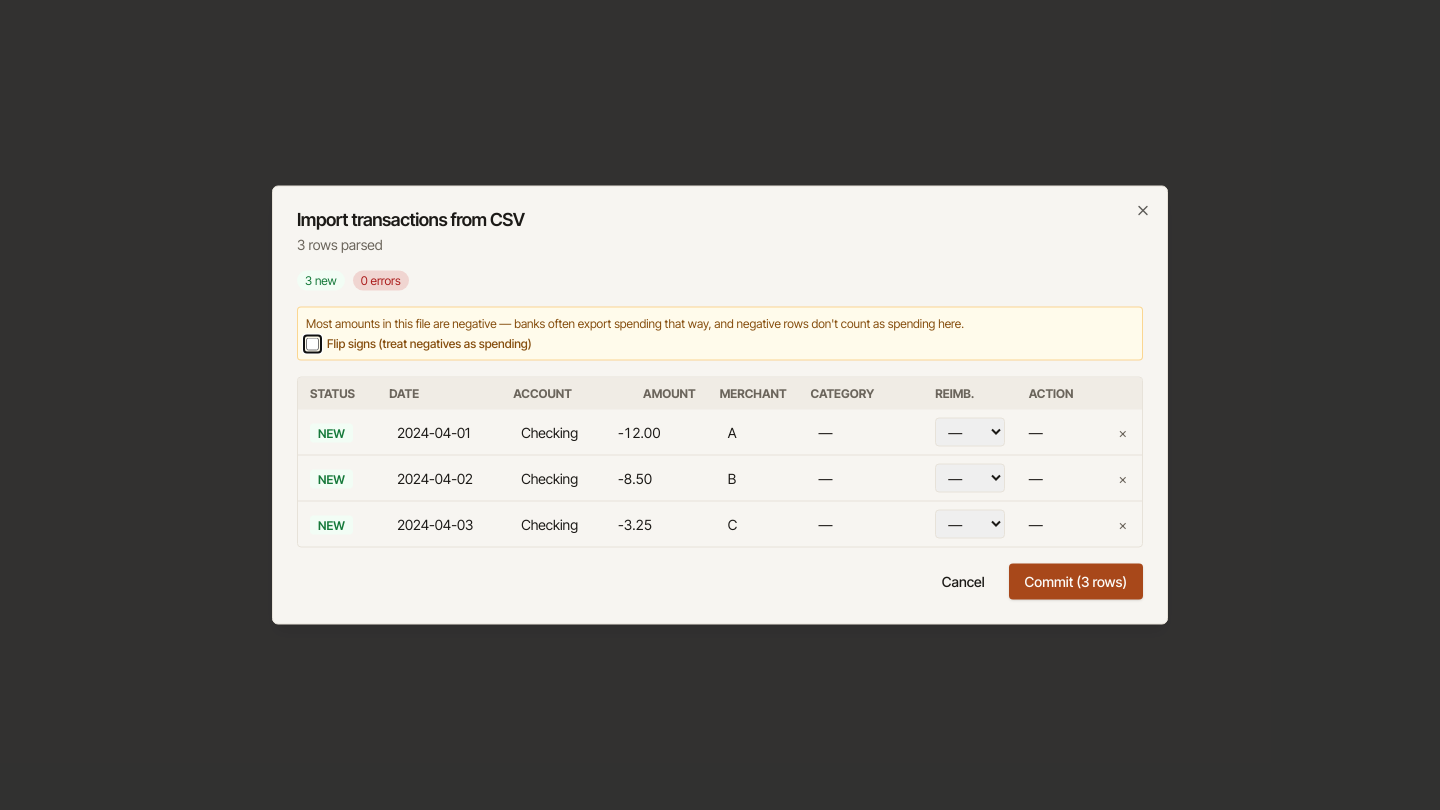
ImportPreviewModal — transaction mode › negative-sign detection (wave-9 chip b) › AMOUNT column echoes the resolved (flipped) amount while FLIP is on (round-3 chip A)
Expected: the text "-12.00" is shown, [618,423,661,440]
Expected: the text "→ " is not shown
Click the checkbox labelled "Flip signs (treat negatives as spending)".
click(312, 344)  # box [306,337,319,350]
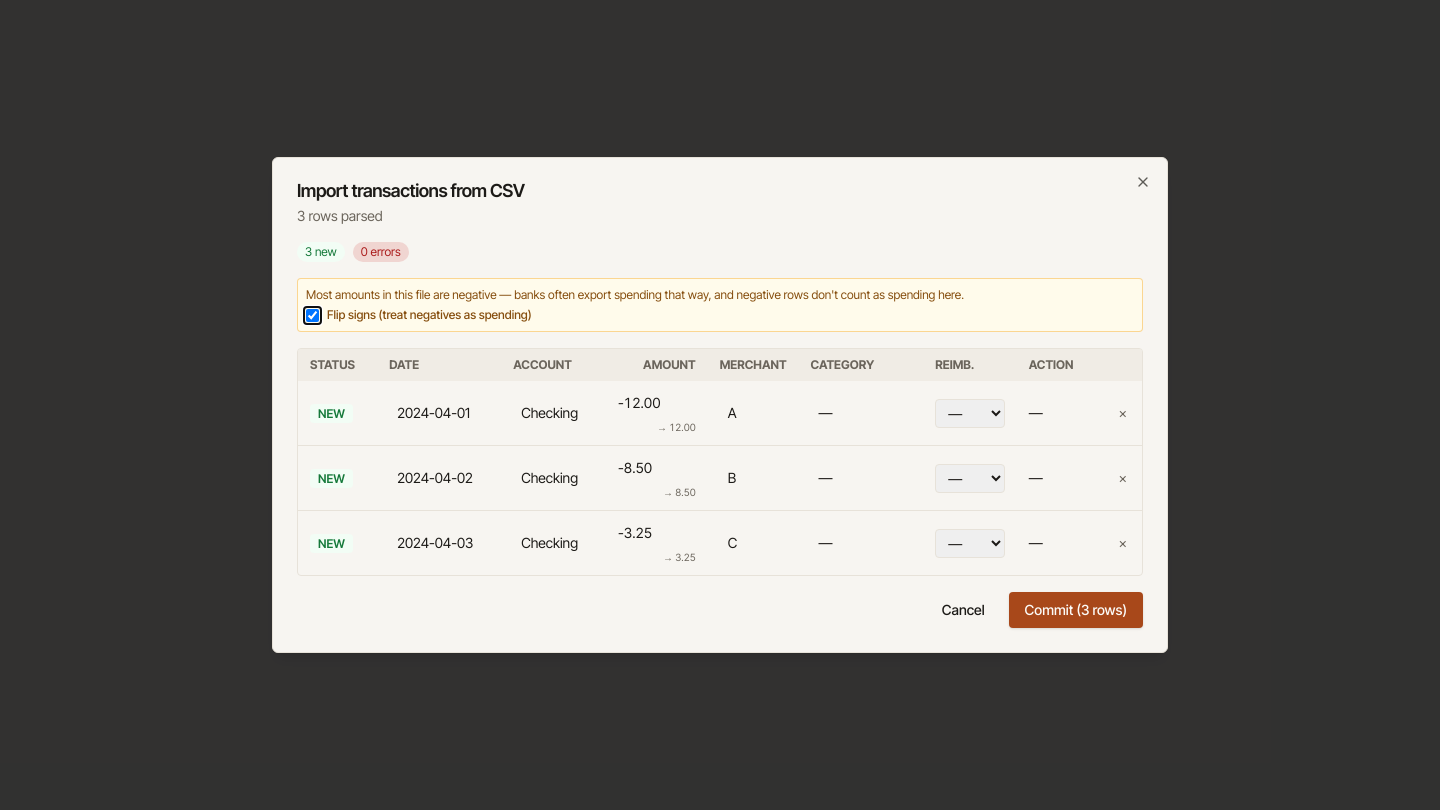
Expected: the text "→ 12.00" is shown, [657,421,696,433]
Expected: the text "→ 8.50" is shown, [663,486,696,498]
Expected: the text "→ 3.25" is shown, [663,551,696,563]
